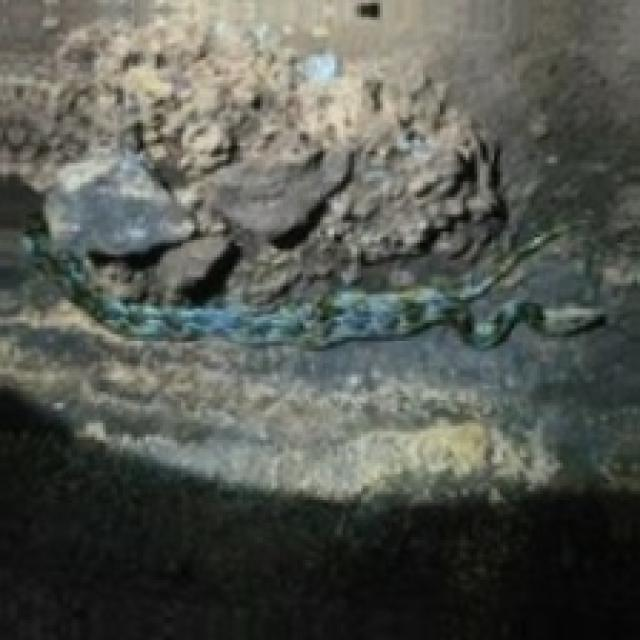reticulated python: (0, 178, 640, 349)
